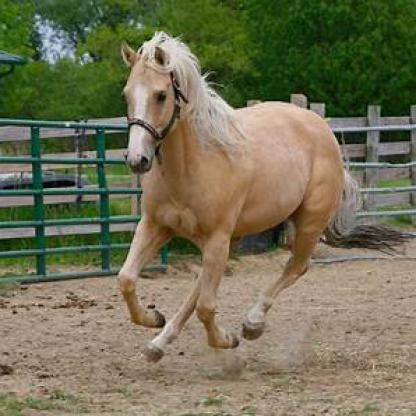horse: (117, 32, 409, 364)
